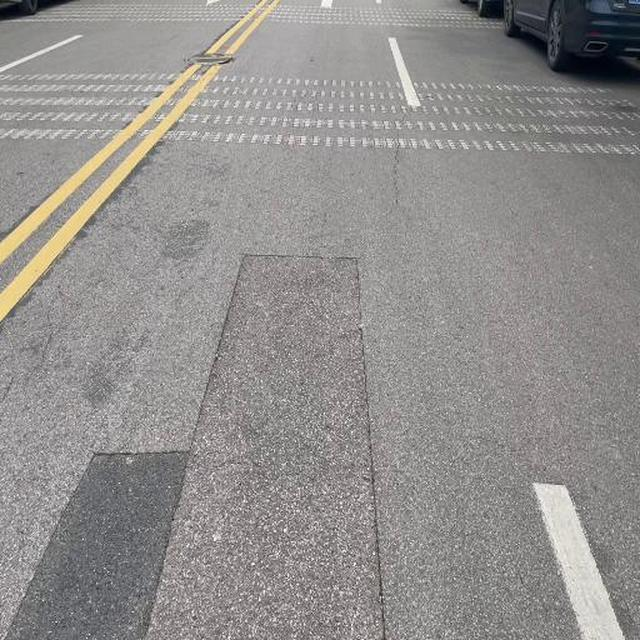Sambungan: (0, 256, 394, 640)
